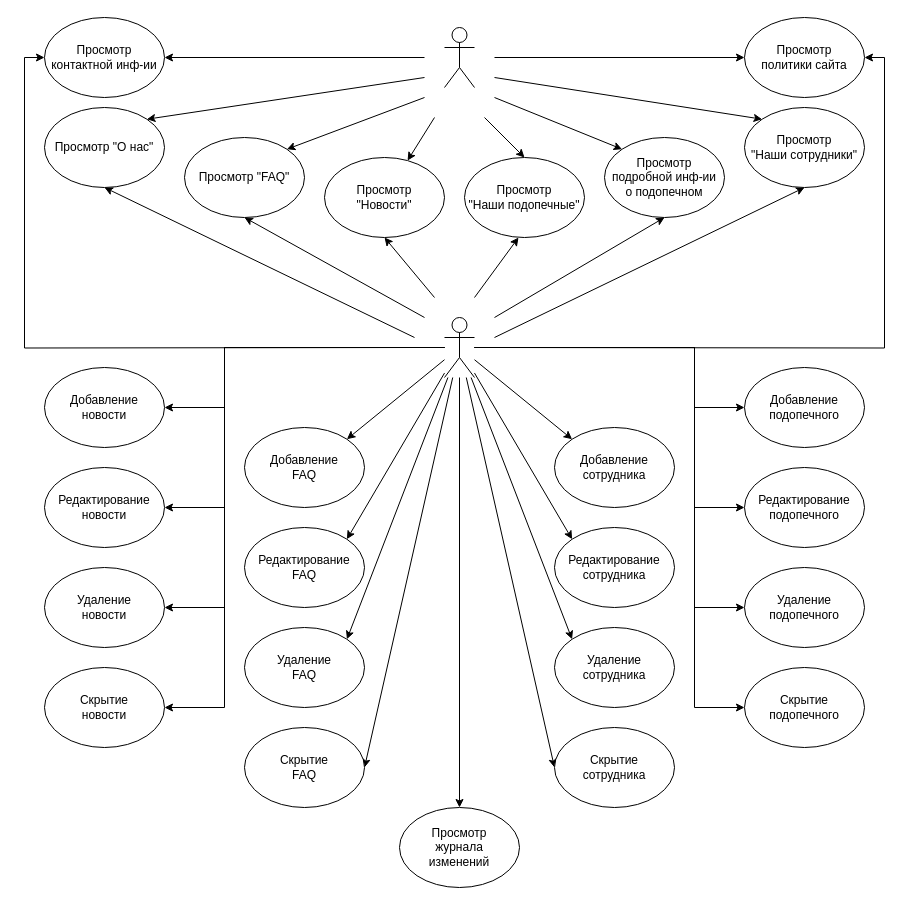
Image size: 910x905. Some labels were removed from this diagram. Each missing label, with the centre of its shape:
Администратор: the point at 459,347
Гость: the point at 459,57
